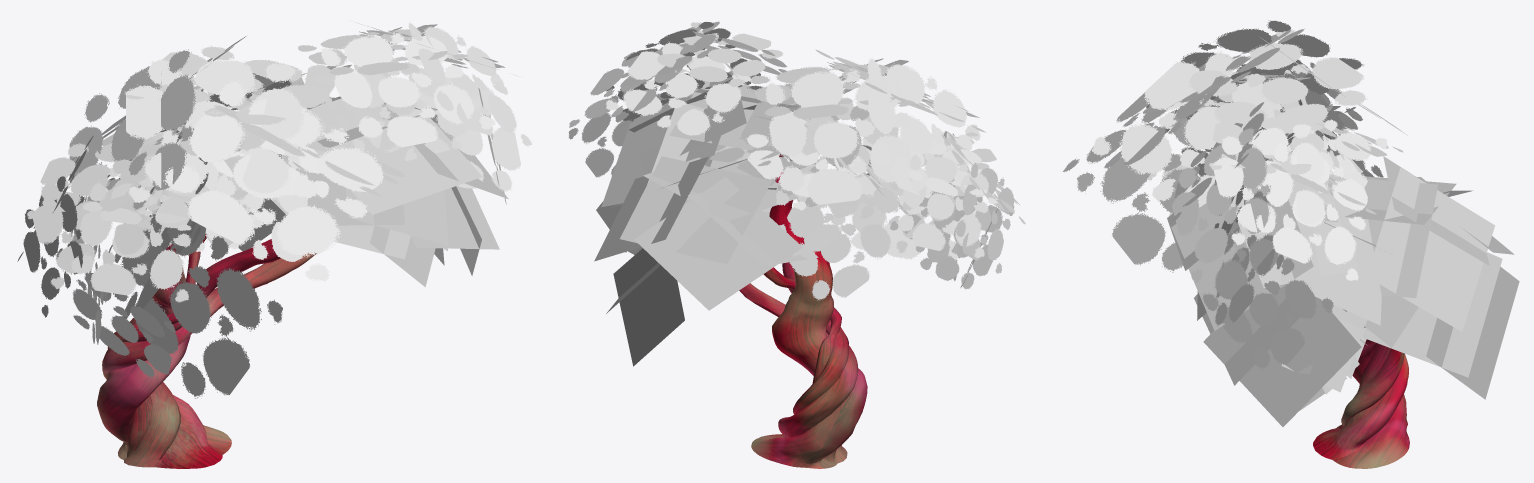
File: baumtest.fbx
3 renders of one model, left to right at view 1: azimuth 30°, elevation 25°; view 2: azimuth 150°, elevation 25°; view 3: azimuth 270°, elevation 25°, orthographic. The views are drawn at different scales.
Parts seen in each view (by area): view 1: Untitled-2.2249; view 2: Untitled-2.2249; view 3: Untitled-2.2249.
Part boxes in pixels (bbox=[...]): Untitled-2.2249: bbox=[17, 22, 531, 468]; Untitled-2.2249: bbox=[568, 21, 1025, 468]; Untitled-2.2249: bbox=[1063, 20, 1519, 468].
Size of the model in its own units: 1903 by 1672 by 1661.
